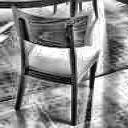chair_success: (6, 4, 106, 126)
